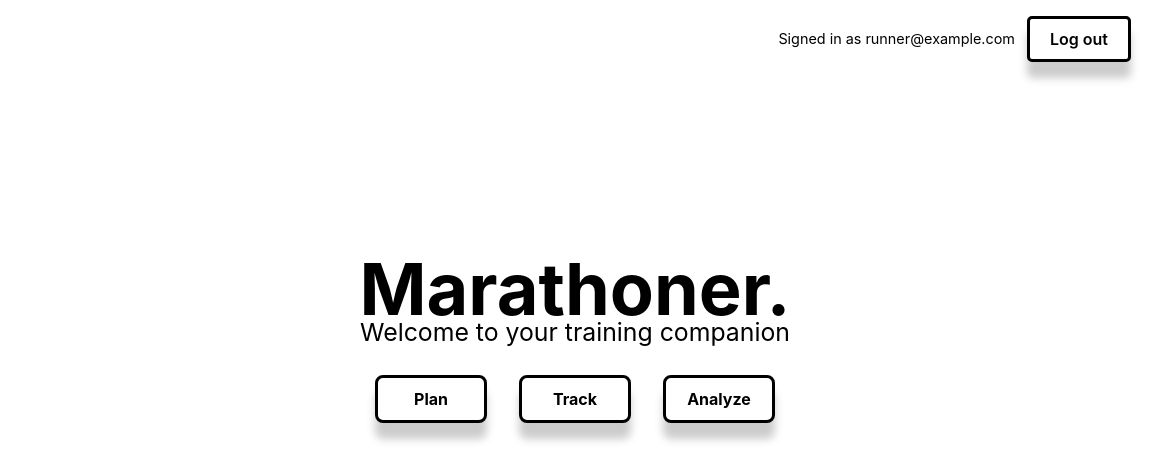
Scenario: App authentication state › returns to signed-out UI after logout
Click the button "Log out" at coordinates (1079, 39), box left=1027, top=16, right=1131, bottom=62
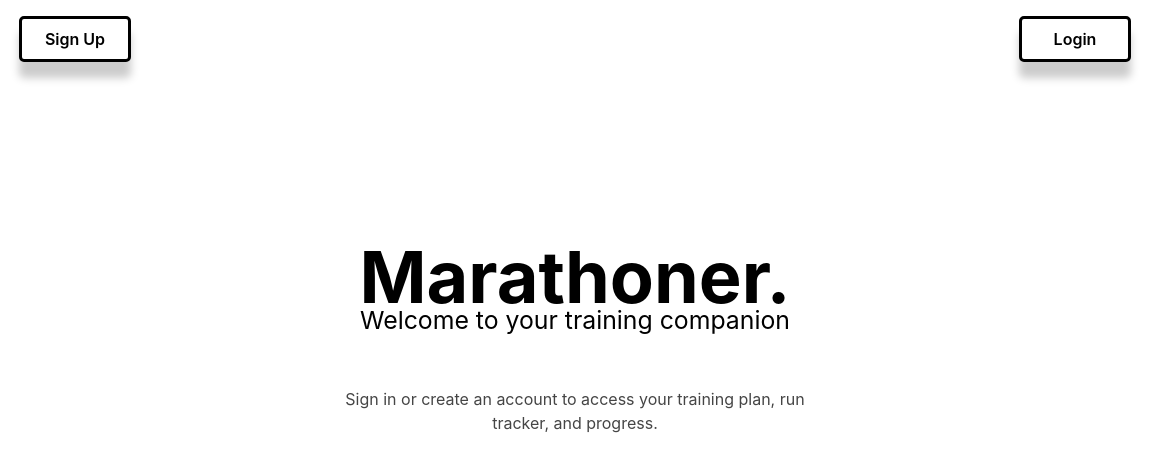
Result: the button "Login" is shown at left=1019, top=16, right=1131, bottom=62
